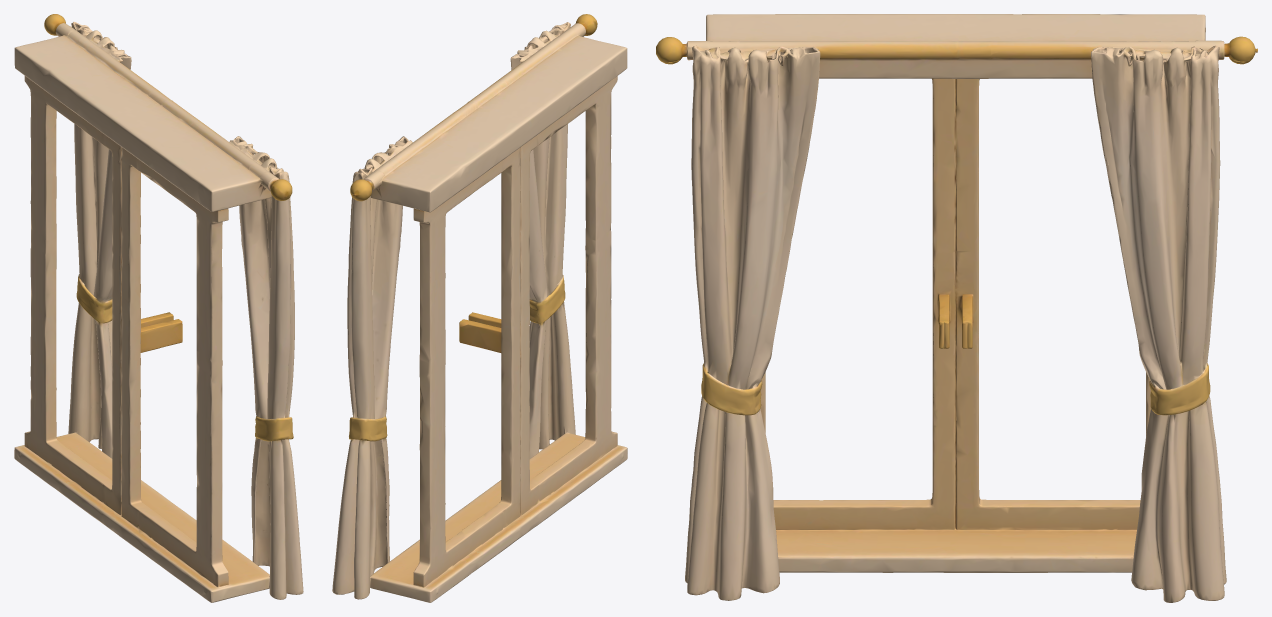
Rendered from DefultWindow.fbx.
The picture shows the model from 3 angles, left to right: view 1: azimuth 30°, elevation 25°; view 2: azimuth 150°, elevation 25°; view 3: azimuth 270°, elevation 25°; orthographic projection. The views are drawn at different scales.
Parts seen in each view (by area): view 1: tripo_node_f04bc427; view 2: tripo_node_f04bc427; view 3: tripo_node_f04bc427.
Part boxes in pixels (box(x1,y1,x2,y2)): tripo_node_f04bc427: box(14, 14, 303, 602); tripo_node_f04bc427: box(332, 14, 627, 602); tripo_node_f04bc427: box(656, 14, 1257, 602).
Size of the model in its own units: 0.2314 by 0.9643 by 0.9713.
Materials: 1 (1 with a texture image).
